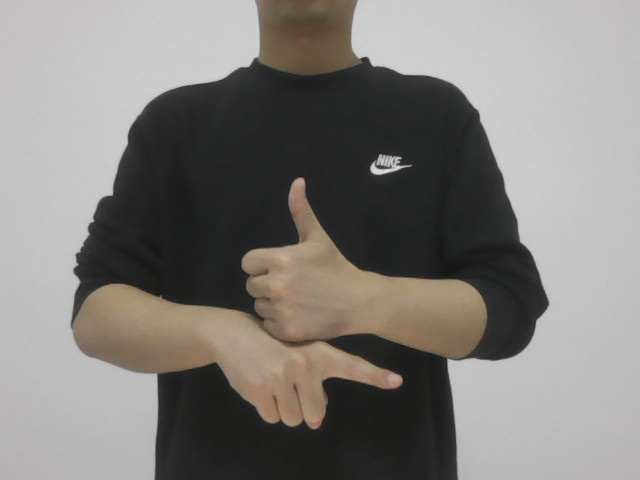birthday: (218, 173, 414, 443)
